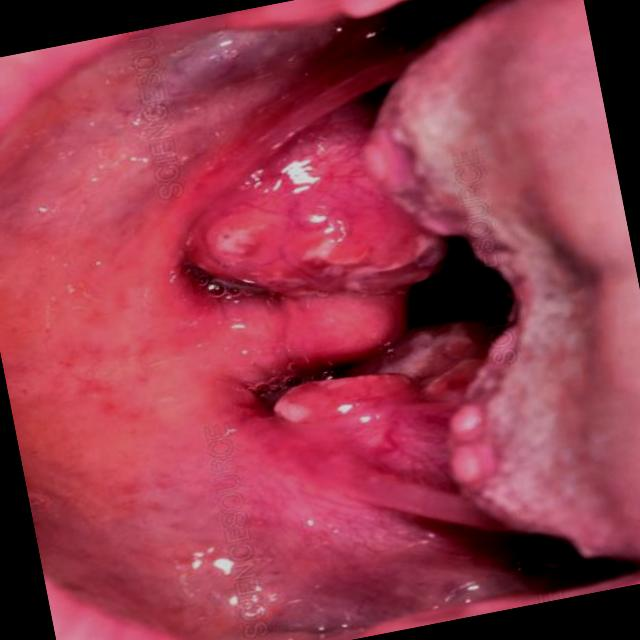pharyngitis: (160, 90, 424, 316), (247, 300, 516, 513)
